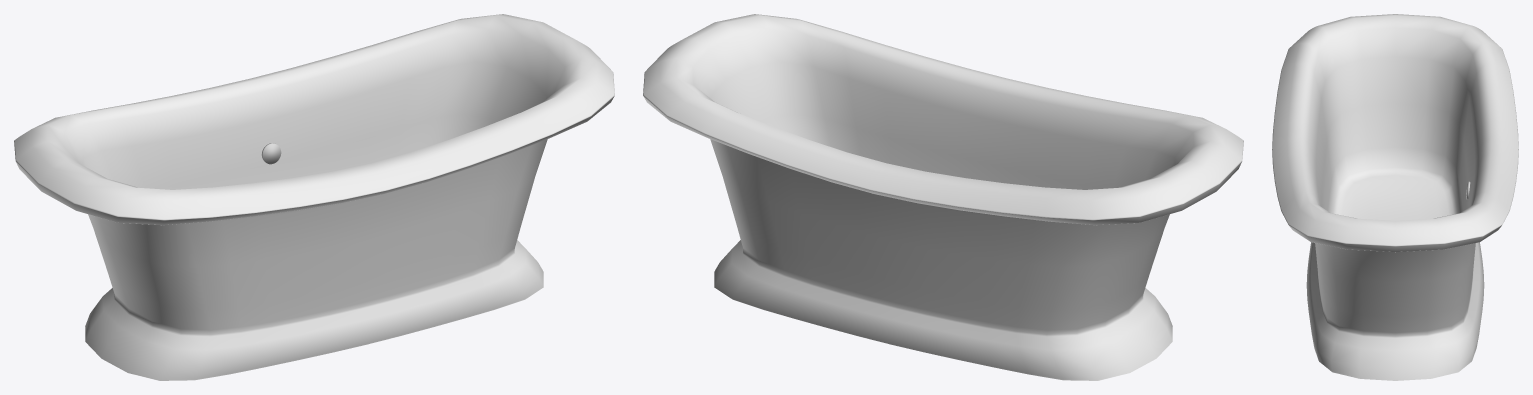
The model's file is BathTub01.fbx.
3 views of the same model, side by side, from view 1: azimuth 30°, elevation 25°; view 2: azimuth 150°, elevation 25°; view 3: azimuth 270°, elevation 25° (orthographic). The views are drawn at different scales.
Parts seen in each view (by area): view 1: Bathtub01; view 2: Bathtub01; view 3: Bathtub01.
Part boxes in pixels (bbox=[...]): Bathtub01: bbox=[14, 14, 614, 380]; Bathtub01: bbox=[643, 14, 1243, 380]; Bathtub01: bbox=[1272, 14, 1518, 380].
Bounding box in the file's own units: 132 × 47.39 × 60.51.
